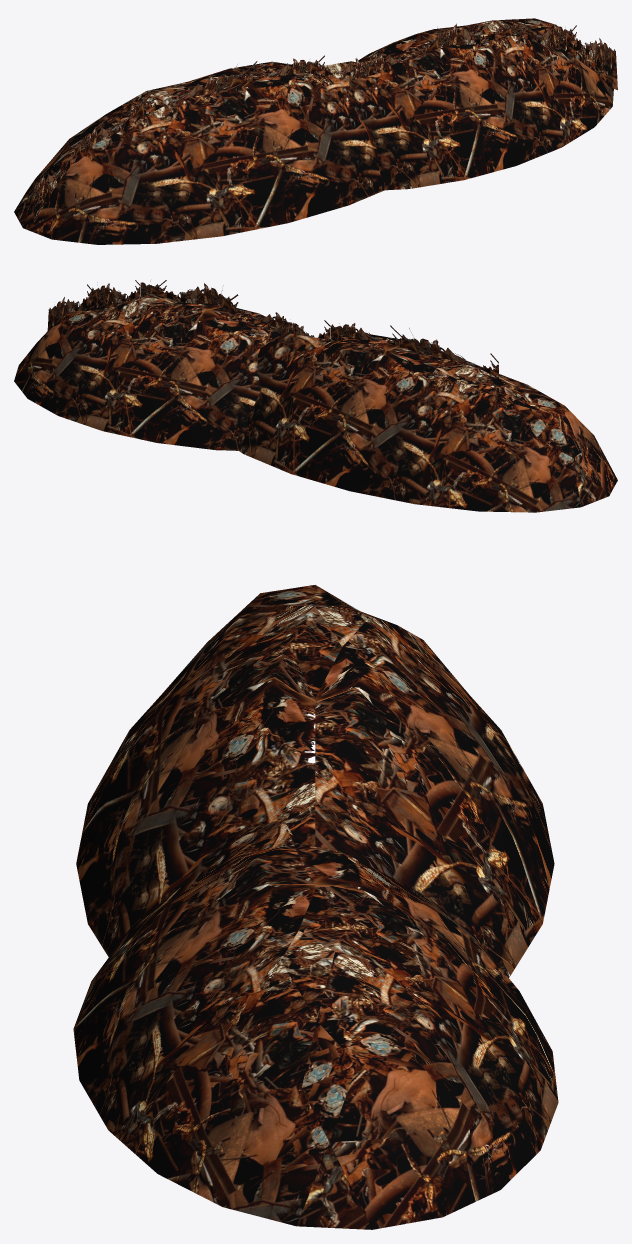
Rendered from Trash_mount.FBX.
The picture shows the model from 3 angles, top to bottom: view 1: azimuth 30°, elevation 25°; view 2: azimuth 150°, elevation 25°; view 3: azimuth 270°, elevation 25°; orthographic projection. The views are drawn at different scales.
Parts seen in each view (by area): view 1: GeoSphere001; view 2: GeoSphere001; view 3: GeoSphere001.
Part boxes in pixels (x1,y1,x2,y2): GeoSphere001: (14,18,617,244); GeoSphere001: (14,280,617,512); GeoSphere001: (73,585,558,1229).
Bounding box in the file's own units: 73.27 × 14.58 × 26.7.
